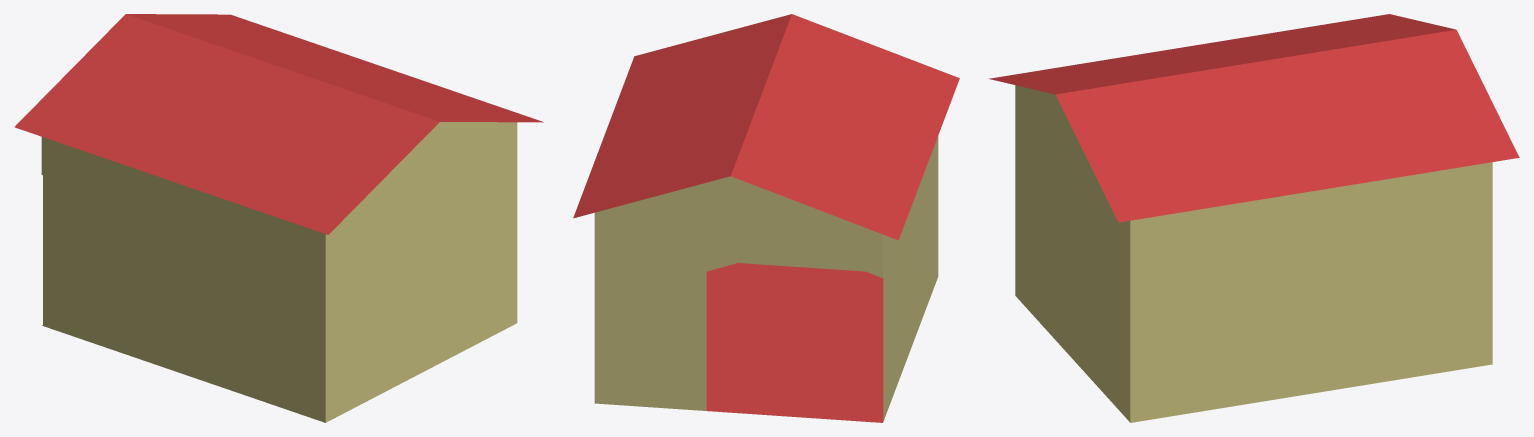
The picture shows the model from 3 angles, left to right: view 1: azimuth 30°, elevation 25°; view 2: azimuth 150°, elevation 25°; view 3: azimuth 270°, elevation 25°; orthographic projection. The views are drawn at different scales.
Bounding box in the file's own units: 17.76 × 19.11 × 10.73.
